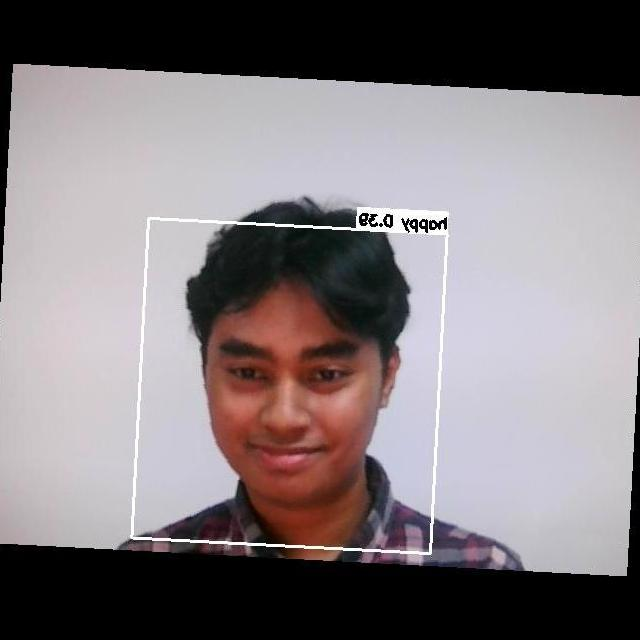Happy: (189, 308, 393, 491)
